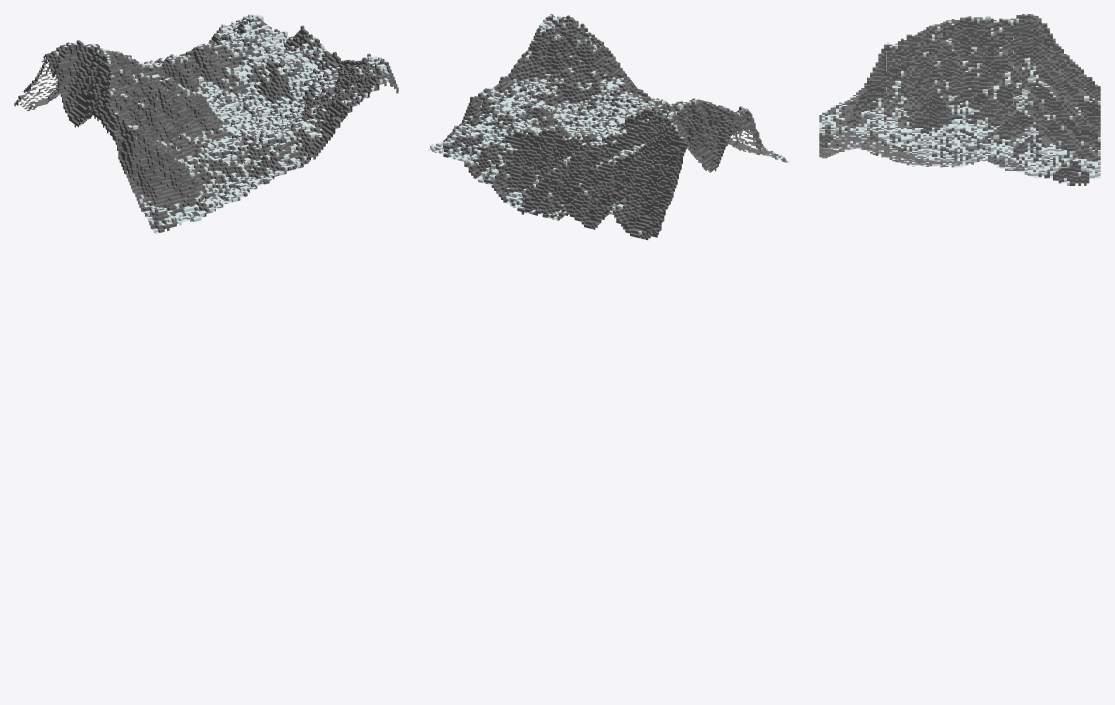
File: chunk3100--1200-lvl-1-transformed.glb
3 renders of one model, left to right at view 1: azimuth 30°, elevation 25°; view 2: azimuth 150°, elevation 25°; view 3: azimuth 270°, elevation 25°, orthographic. The views are drawn at different scales.
Parts seen in each view (by area): view 1: Cobblestone, Stone, Snow_Block; view 2: Cobblestone, Stone, Snow_Block; view 3: Cobblestone, Stone, Snow_Block.
Part boxes in pixels (<box>): Cobblestone: <box>18,15,395,230</box>; Stone: <box>14,18,398,232</box>; Snow_Block: <box>35,14,388,233</box>; Cobblestone: <box>434,15,787,240</box>; Stone: <box>442,14,785,239</box>; Snow_Block: <box>428,15,790,234</box>; Cobblestone: <box>819,14,1100,185</box>; Stone: <box>819,14,1100,184</box>; Snow_Block: <box>819,14,1100,185</box>.
Size of the model in its own units: 100 by 224 by 100.
Materials: 15 (15 with a texture image).
